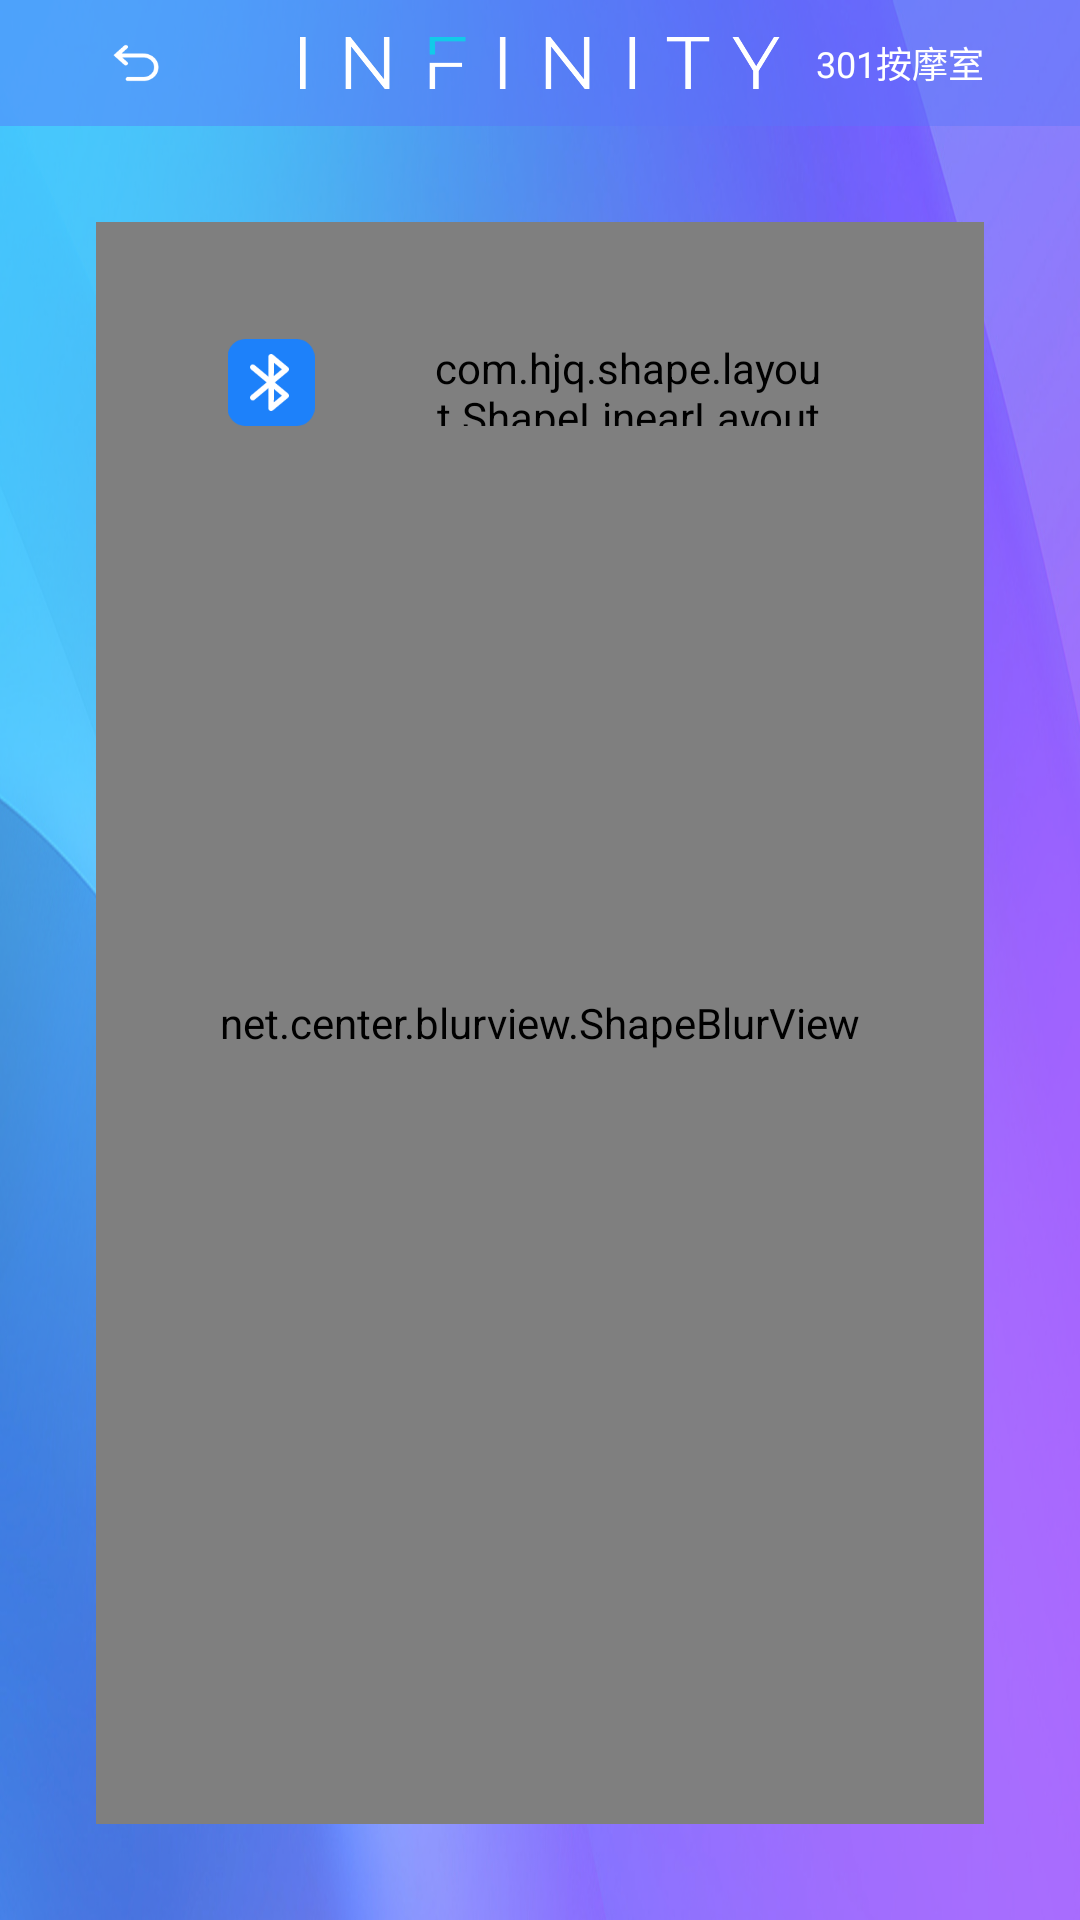

Icons on this 1080w x 1920h Android screen, each with its box as (x1, y1, x2, y2):
finish: (113, 45, 159, 81)
